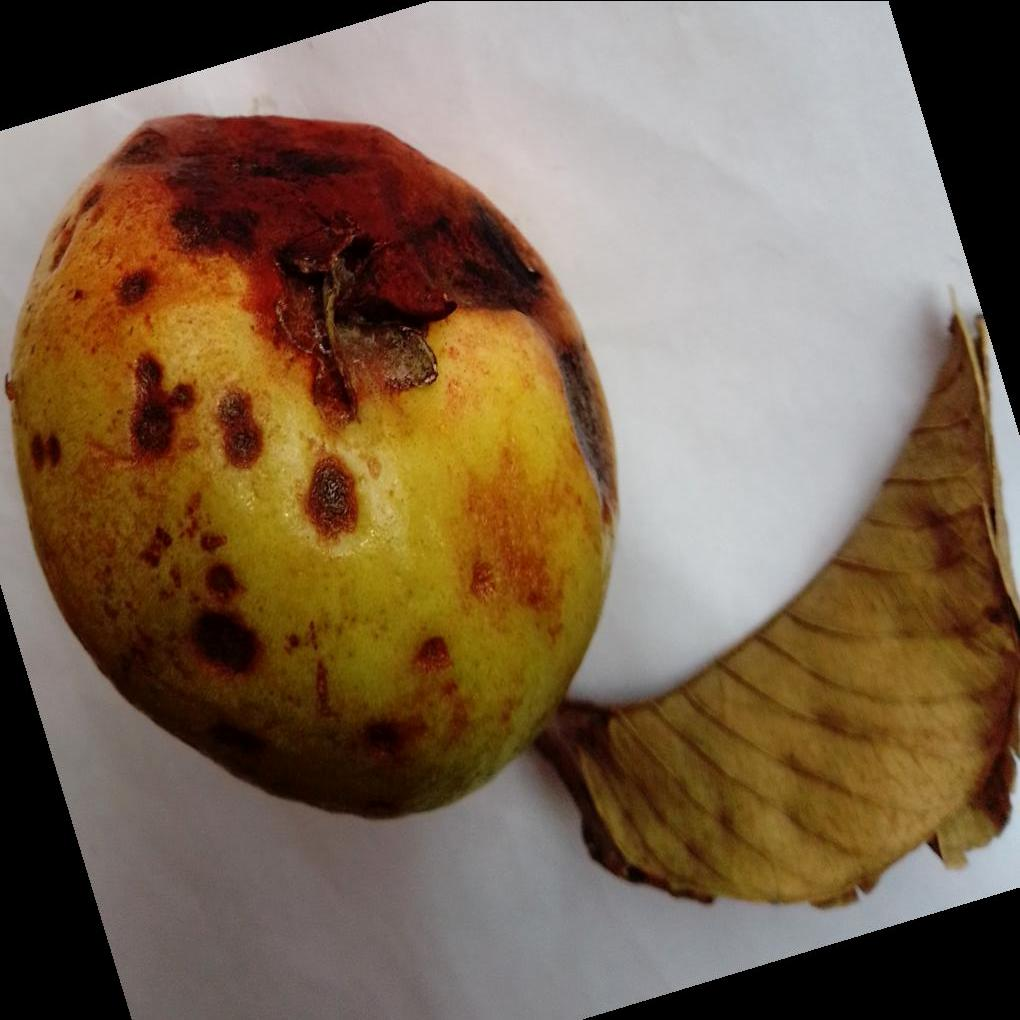FreshOrange: (6, 111, 622, 822)
